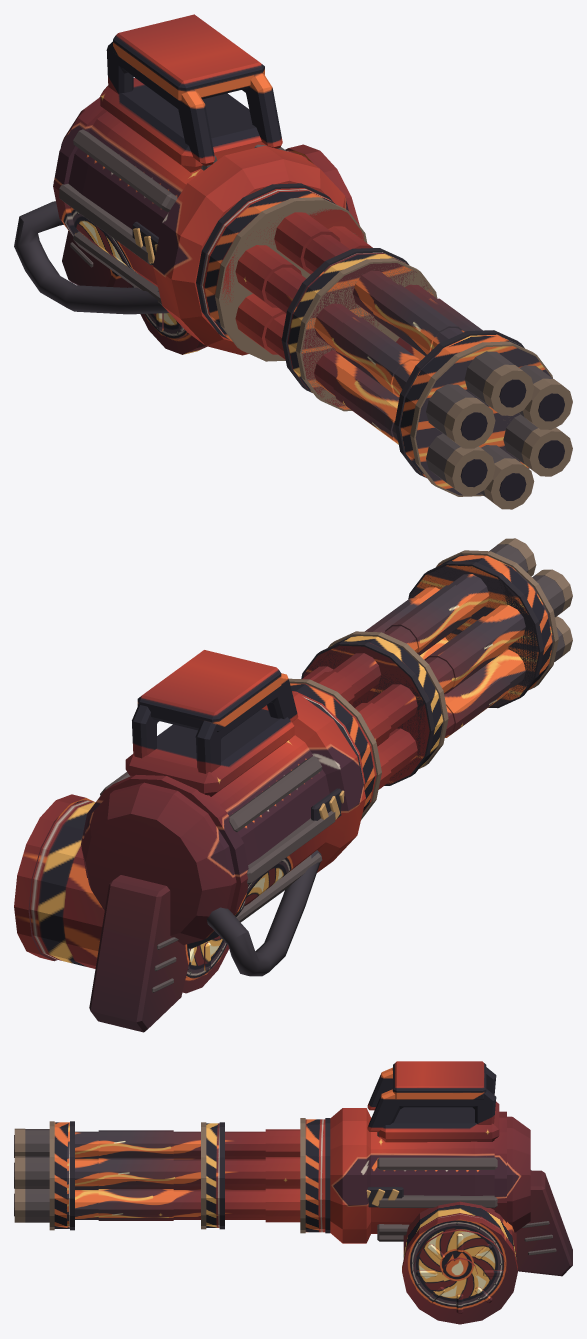
The model's file is Minigun_Furnace.glb.
3 views of the same model, one above another, from view 1: azimuth 30°, elevation 25°; view 2: azimuth 150°, elevation 25°; view 3: azimuth 270°, elevation 25° (orthographic). The views are drawn at different scales.
Parts seen in each view (by area): view 1: Rotor, Main, FeedDrum; view 2: Main, Rotor, FeedDrum; view 3: Main, Rotor, FeedDrum.
Part boxes in pixels (x1,y1,x2,y2): Rotor: [196, 183, 572, 509]; Main: [14, 14, 348, 355]; FeedDrum: [129, 144, 359, 354]; Main: [81, 650, 365, 1032]; Rotor: [289, 538, 572, 819]; FeedDrum: [14, 794, 228, 993]; Main: [330, 1061, 572, 1276]; Rotor: [14, 1118, 330, 1233]; FeedDrum: [402, 1201, 517, 1324].
Bounding box in the file's own units: 1.34 × 1.49 × 3.71.
Materials: 1 (1 with a texture image).
